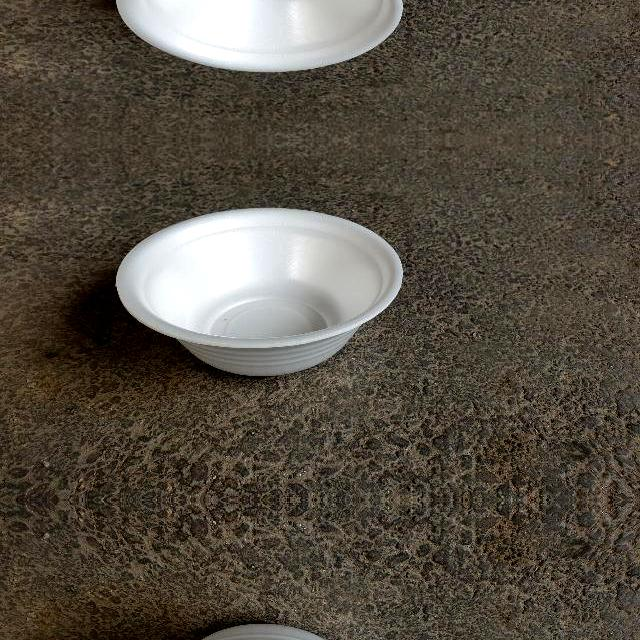Styrofoam: (116, 206, 404, 378), (115, 207, 403, 376), (116, 0, 403, 73), (116, 0, 403, 73)
